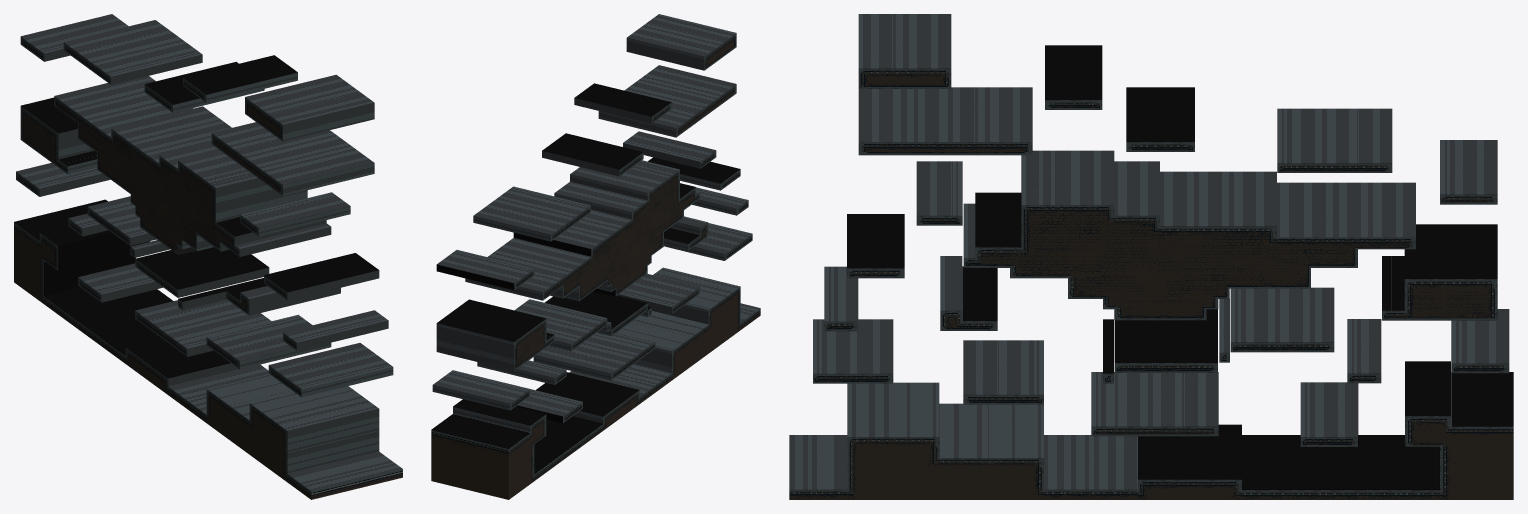
File: level 2.glb
3 renders of one model, left to right at view 1: azimuth 30°, elevation 25°; view 2: azimuth 150°, elevation 25°; view 3: azimuth 270°, elevation 25°, orthographic. The views are drawn at different scales.
Parts seen in each view (by area): view 1: Cube, Cube.001; view 2: Cube, Cube.001; view 3: Cube, Cube.001.
Part boxes in pixels (x1,y1,x2,y2): Cube: (16,14,402,499); Cube.001: (14,199,238,394); Cube: (432,14,760,423); Cube.001: (431,372,639,499); Cube: (789,14,1509,499); Cube.001: (1138,361,1513,499).
Size of the model in its own units: 0.8878 by 3.28 by 4.99.
1 material, 1 textured.
